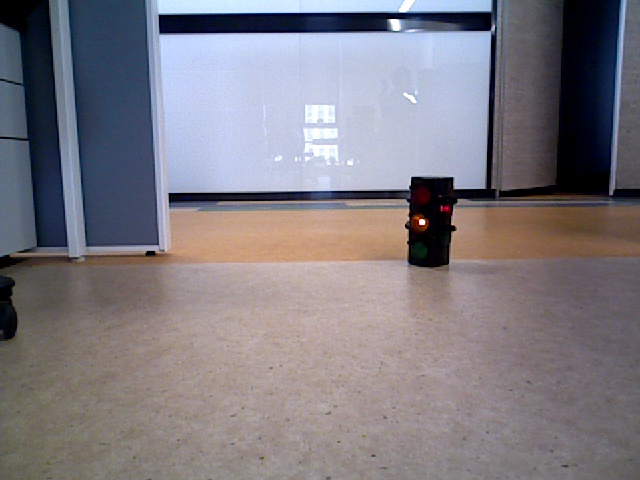yellow: (411, 178, 450, 264)
